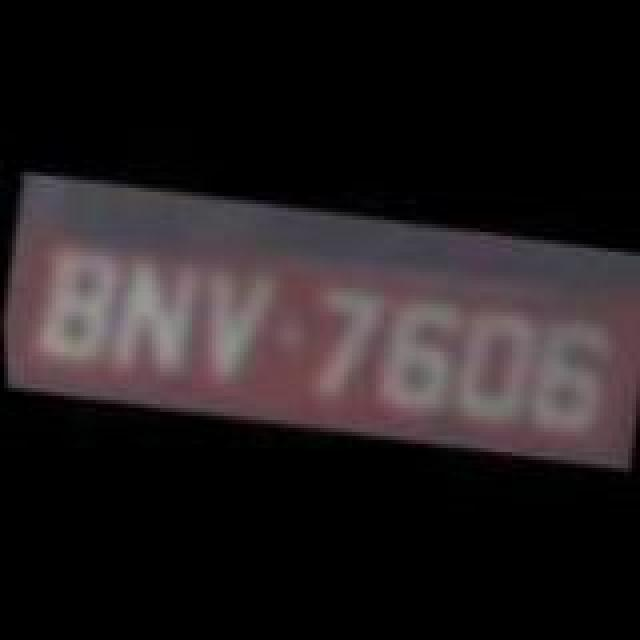6: (368, 286, 472, 422), (514, 306, 614, 438)
7: (292, 276, 384, 408)
B: (22, 232, 126, 376)
N: (96, 248, 204, 388)
O: (438, 298, 546, 430)
V: (182, 254, 286, 398)
